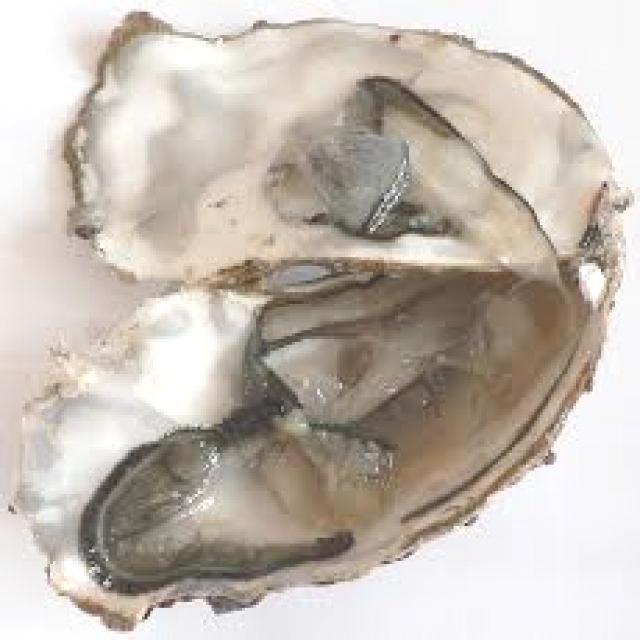Oyster-Open: (18, 256, 606, 627), (64, 12, 612, 283)
